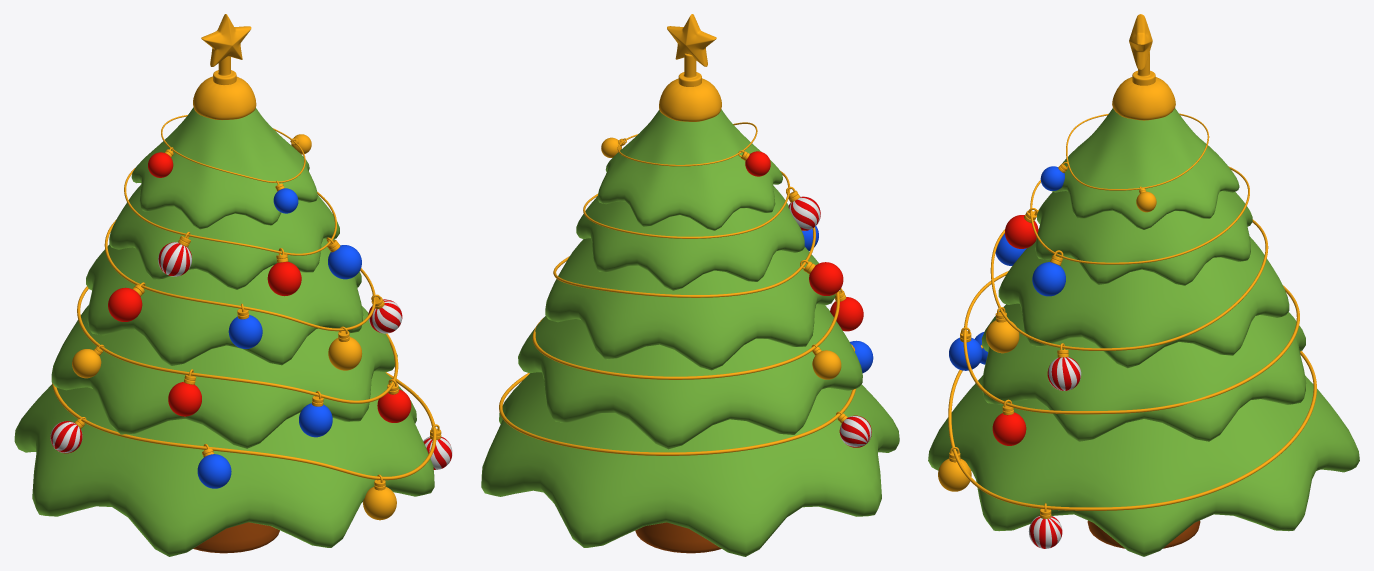
The model's file is Tree8.fbx.
The picture shows the model from 3 angles, left to right: view 1: azimuth 30°, elevation 25°; view 2: azimuth 150°, elevation 25°; view 3: azimuth 270°, elevation 25°; orthographic projection.
Visible parts, largest first — view 1: Cylinder.036, Cylinder.037, Cylinder.038, Cylinder.040, Cylinder.039, Cylinder.054, BézierCircle.005, Cylinder.041, BézierCircle.006, Star.001, BézierCircle.007, Sphere.019 (+16 smaller); view 2: Cylinder.036, Cylinder.037, Cylinder.038, Cylinder.040, Cylinder.039, Cylinder.054, BézierCircle.005, Cylinder.041, BézierCircle.006, Star.001, BézierCircle.007, Sphere.028 (+7 smaller); view 3: Cylinder.036, Cylinder.037, Cylinder.038, Cylinder.040, Cylinder.039, BézierCircle.005, Cylinder.054, BézierCircle.006, BézierCircle.007, Sphere.029, BézierCircle.008, Sphere.025 (+9 smaller).
Part boxes in pixels (bbox=[...]): Cylinder.036: bbox=[14, 371, 434, 556]; Cylinder.037: bbox=[51, 305, 397, 448]; Cylinder.038: bbox=[86, 238, 363, 365]; Cylinder.040: bbox=[131, 107, 317, 229]; Cylinder.039: bbox=[109, 184, 339, 289]; Cylinder.054: bbox=[193, 76, 256, 120]; BézierCircle.005: bbox=[52, 372, 436, 480]; Cylinder.041: bbox=[193, 522, 279, 553]; BézierCircle.006: bbox=[77, 286, 398, 403]; Star.001: bbox=[201, 14, 251, 66]; BézierCircle.007: bbox=[104, 219, 375, 331]; Sphere.019: bbox=[197, 454, 231, 488]; Cylinder.036: bbox=[481, 372, 899, 556]; Cylinder.037: bbox=[518, 304, 862, 449]; Cylinder.038: bbox=[545, 238, 835, 370]; Cylinder.040: bbox=[598, 109, 782, 230]; Cylinder.039: bbox=[576, 186, 804, 290]; Cylinder.054: bbox=[659, 78, 721, 121]; BézierCircle.005: bbox=[499, 373, 855, 455]; Cylinder.041: bbox=[635, 522, 721, 553]; BézierCircle.006: bbox=[532, 291, 839, 379]; Star.001: bbox=[667, 14, 716, 66]; BézierCircle.007: bbox=[553, 227, 815, 297]; Sphere.028: bbox=[809, 262, 843, 295]; Cylinder.036: bbox=[928, 375, 1359, 556]; Cylinder.037: bbox=[981, 303, 1306, 441]; Cylinder.038: bbox=[998, 236, 1289, 368]; Cylinder.040: bbox=[1051, 108, 1239, 229]; Cylinder.039: bbox=[1035, 191, 1252, 285]; BézierCircle.005: bbox=[948, 345, 1316, 510]; Cylinder.054: bbox=[1112, 77, 1175, 120]; BézierCircle.006: bbox=[963, 271, 1299, 414]; BézierCircle.007: bbox=[990, 209, 1268, 350]; Sphere.029: bbox=[1032, 262, 1065, 296]; BézierCircle.008: bbox=[1030, 166, 1249, 264]; Sphere.025: bbox=[1047, 357, 1081, 390].
Bounding box in the file's own units: 230 × 303 × 230.
